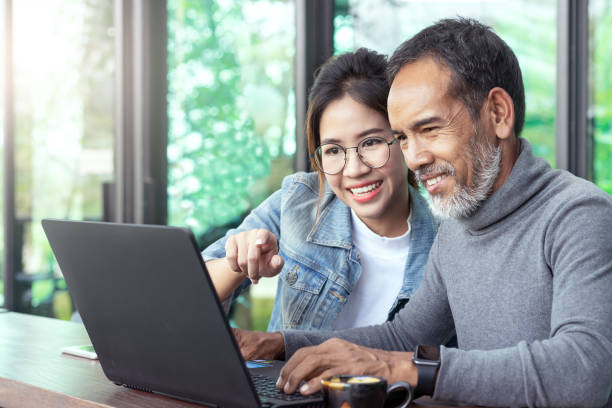without mask: (387, 41, 507, 222), (307, 78, 406, 220)
